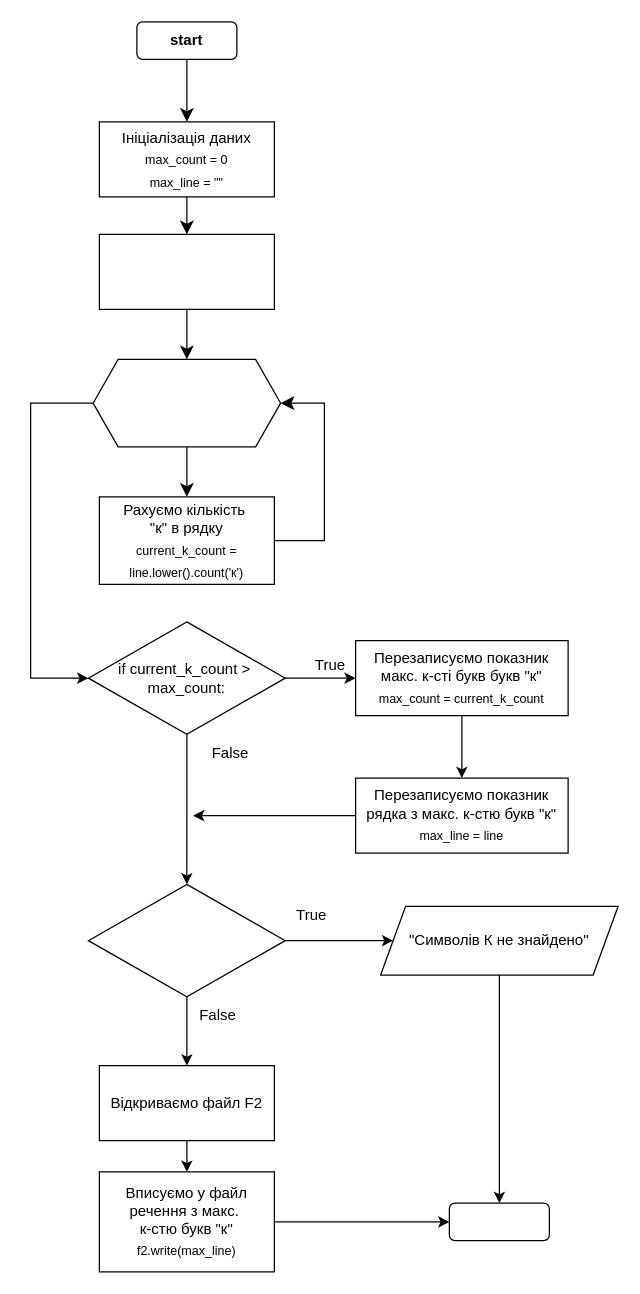
Image size: 640x1294. Some labels were removed from this diagram. Here are the shapes that lost their labels. From the top down, the centre of each, then its label:
At (186,271): "Відкриваємо файл F1".
At (186,402): "for line in f1:".
At (186,940): "if max_count == 0 :".
At (498,1221): "end".
